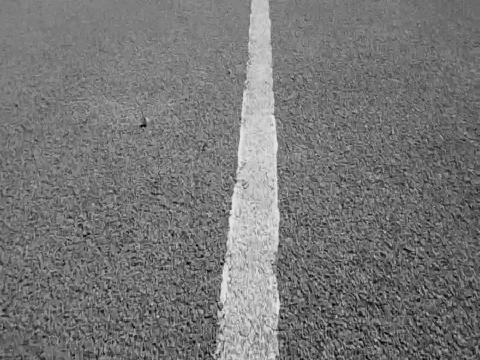Lines: (213, 0, 280, 360)
